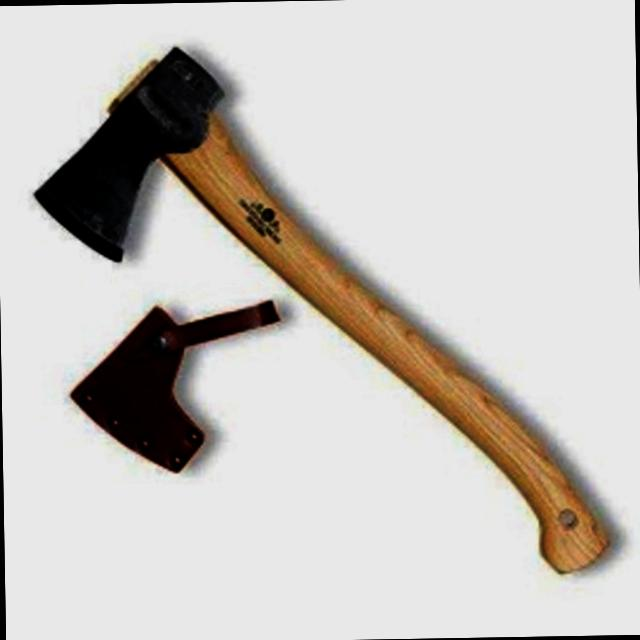ax: (25, 29, 618, 590)
